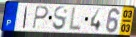4: (89, 7, 103, 33)
6: (105, 7, 121, 34)
I: (22, 6, 29, 30)
L: (68, 6, 83, 32)
P: (32, 5, 50, 30)
S: (52, 5, 69, 32)
